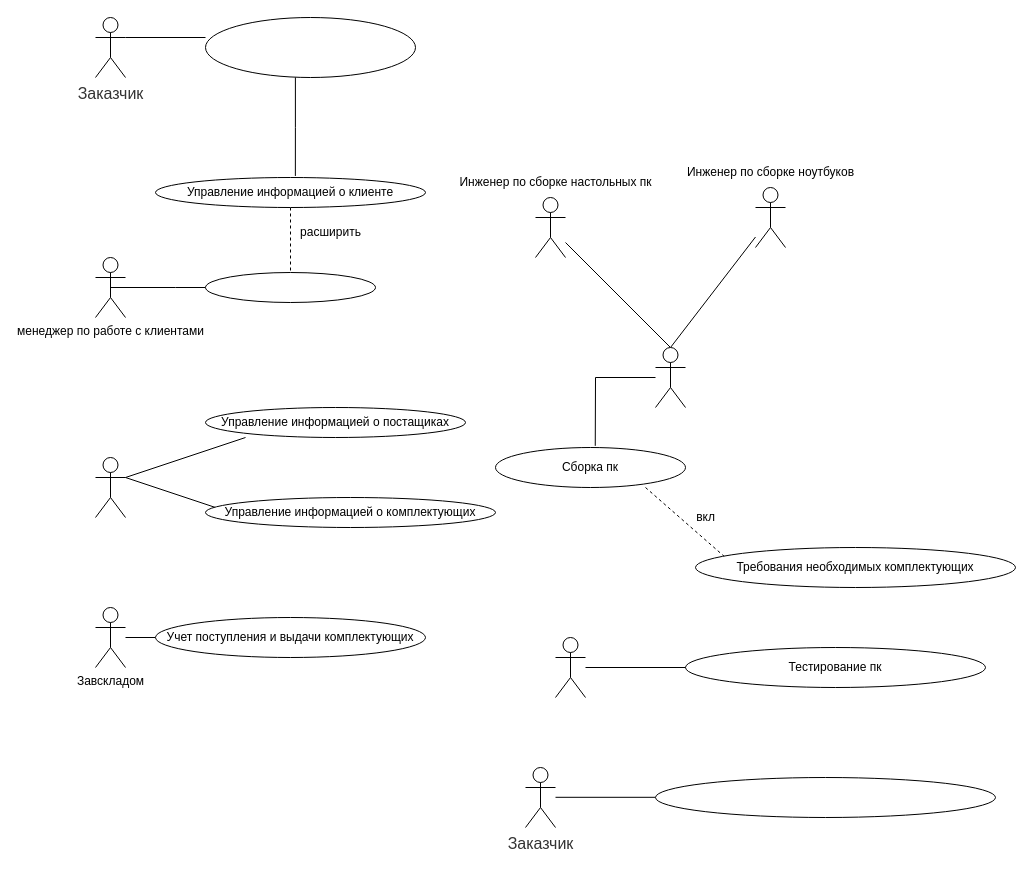
Image size: 1033x871. Some labels were removed from this diagram. The shapes that lost their labels are listed below. From the top down, each one's centre as x and y in pixels, then its label:
At (310,47): "заказ пк".
At (290,287): "работа с заказом".
At (670,377): "Инженер по сборке".
At (110,487): "Менеджер по снабжению".
At (570,667): "Инженер по тестированию".
At (825,797): "получение пк".
